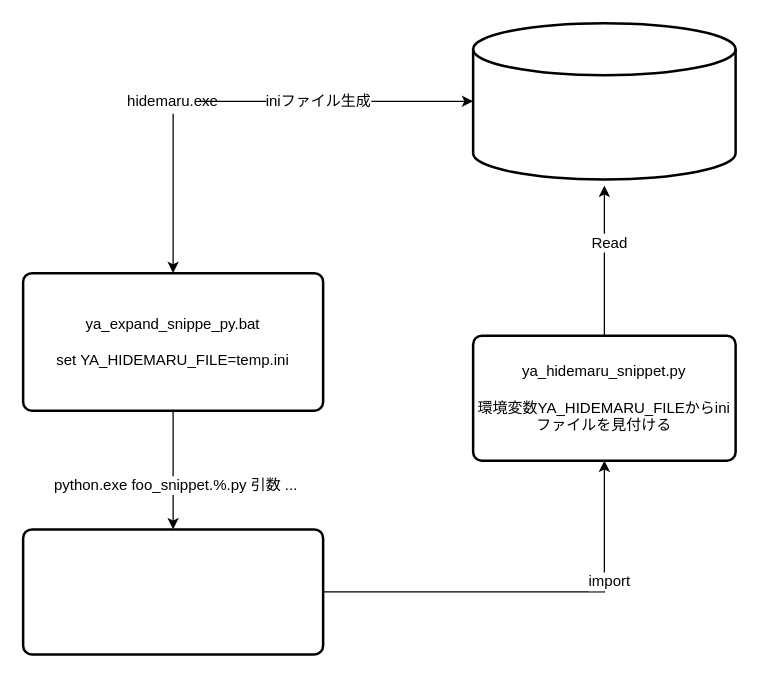
This 758x676 diagram has some shape labels left out. Here are the shapes that lost their labels. From the top down, the centre of each, then its label:
point 603,100: temp.ini 秀丸エディタ側の設定
point 172,591: foo_snippet.%.py import ya_hidemaru_snippet : :
